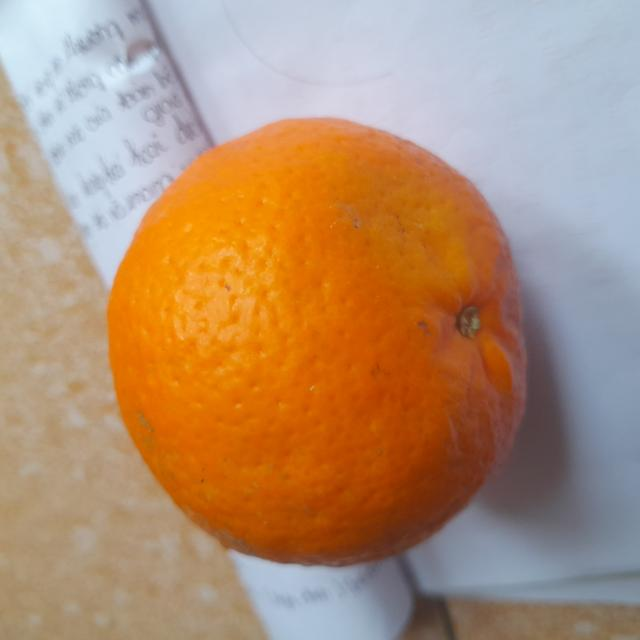Cam: (88, 102, 554, 580)
